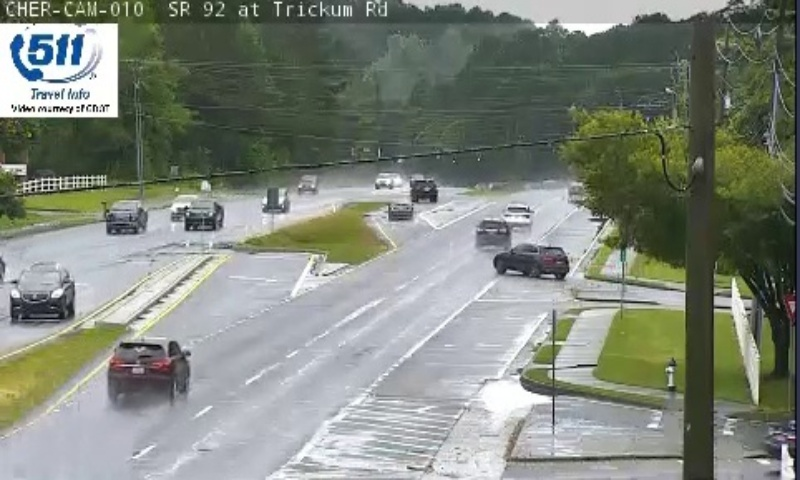car: (107, 337, 189, 396), (476, 218, 511, 247), (501, 203, 532, 229)
